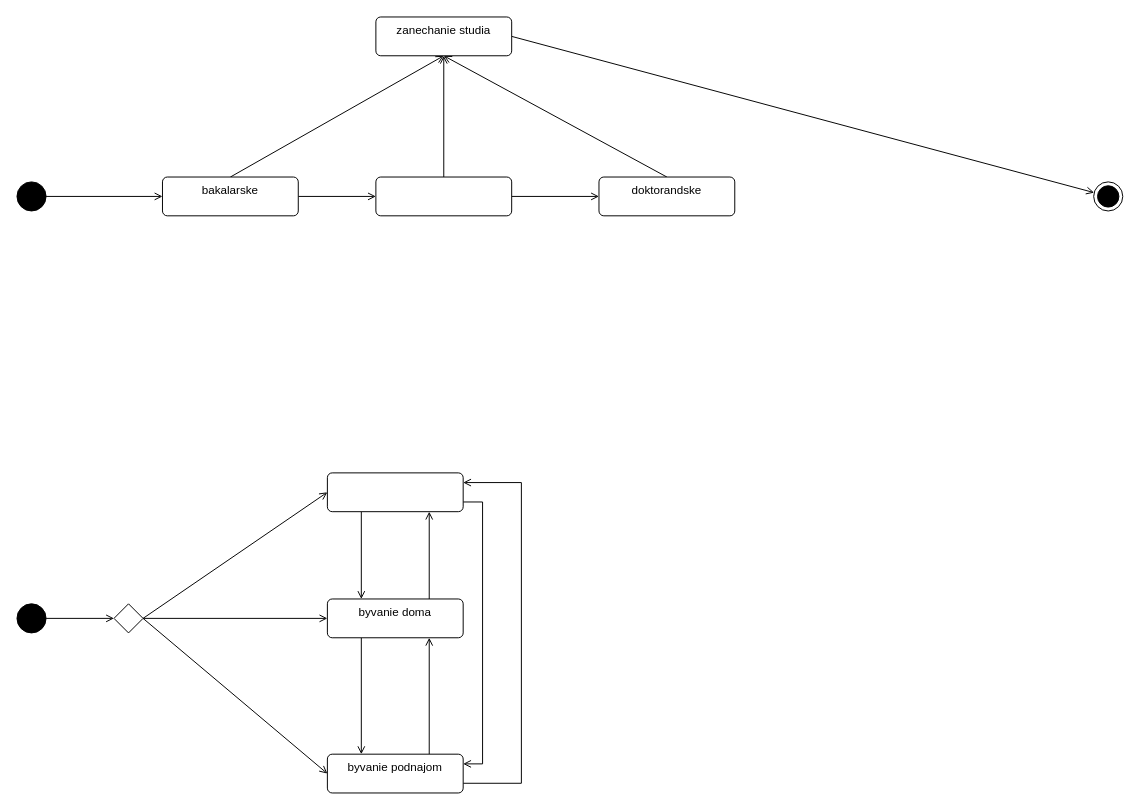
The diagram is 1140 pixels wide and 810 high, and some of its shapes have lost their labels. The centre of each missing label's shape, as x and y in pixels:
"byvanie na internate" goes at pixel 394 492.
"inzinierske" goes at pixel 443 196.
